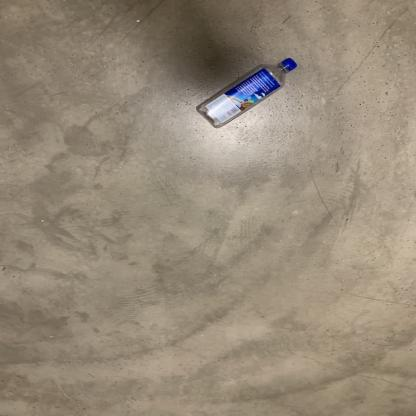trash: (191, 58, 301, 130)
